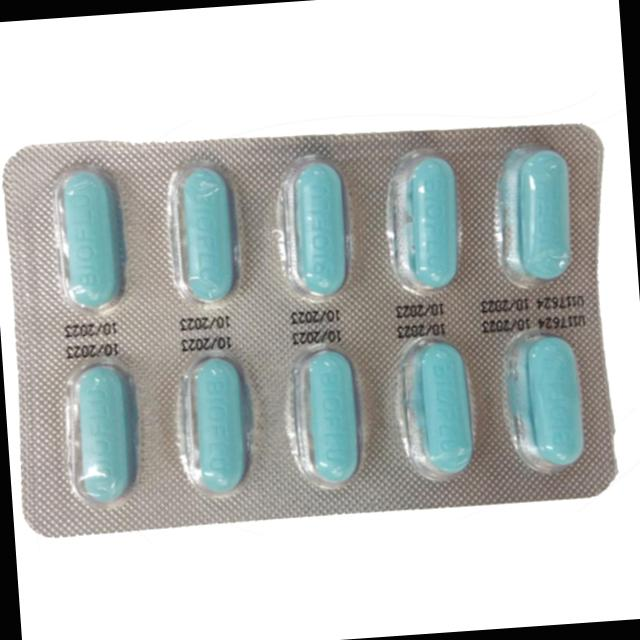blister: (0, 90, 631, 543)
